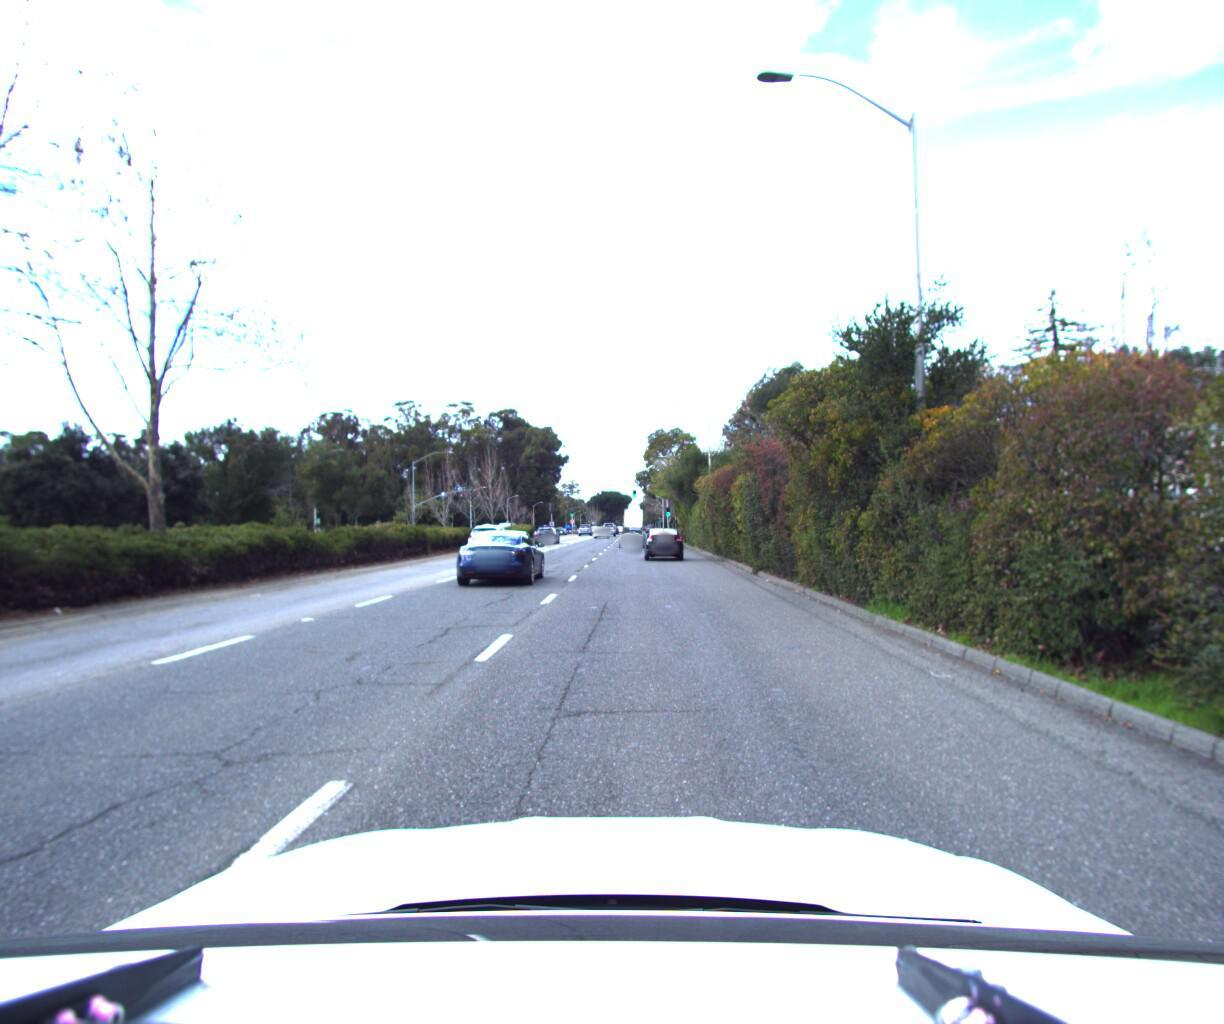car: (452, 527, 551, 588), (466, 521, 516, 557), (642, 523, 687, 560), (615, 524, 647, 550), (535, 523, 563, 545)
